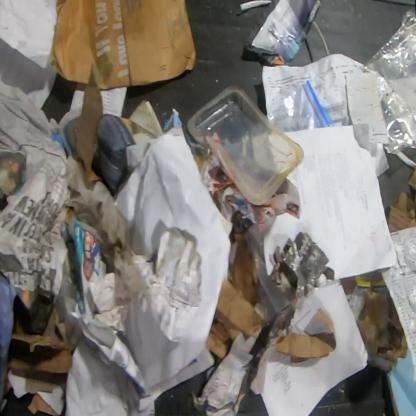cardboard: (70, 228, 202, 344), (205, 233, 268, 359), (6, 302, 73, 374), (356, 288, 409, 374), (273, 306, 337, 364), (74, 66, 103, 184), (387, 163, 415, 235)
rigid_plastic: (186, 82, 304, 207)
soft_plastic: (363, 9, 415, 155), (63, 155, 134, 255), (264, 80, 336, 132)
